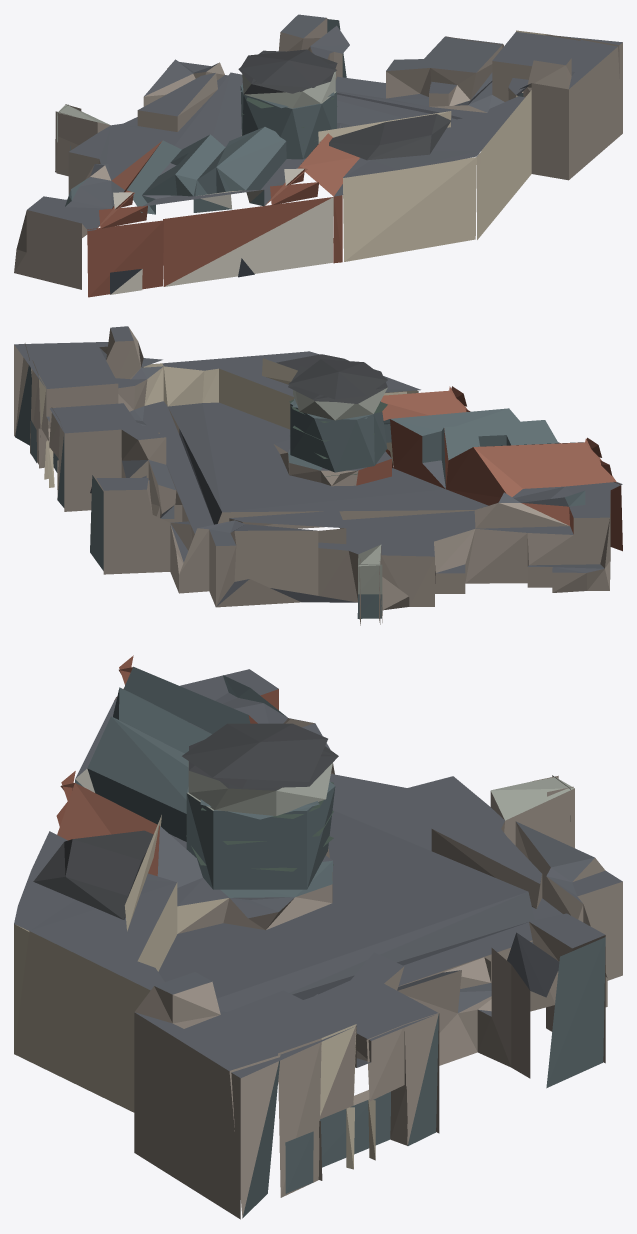
File: kalvertoren.lod2.glb
3 renders of one model, top to bottom at view 1: azimuth 30°, elevation 25°; view 2: azimuth 150°, elevation 25°; view 3: azimuth 270°, elevation 25°, orthographic. The views are drawn at different scales.
Visible parts, largest first — view 1: lod2; view 2: lod2; view 3: lod2.
Boxes of the visible parts, left/top/right/bottom form: lod2: left=14, top=14, right=622, bottom=297; lod2: left=14, top=326, right=622, bottom=625; lod2: left=14, top=655, right=622, bottom=1219.
Size of the model in its own units: 130 by 30.87 by 74.12.
